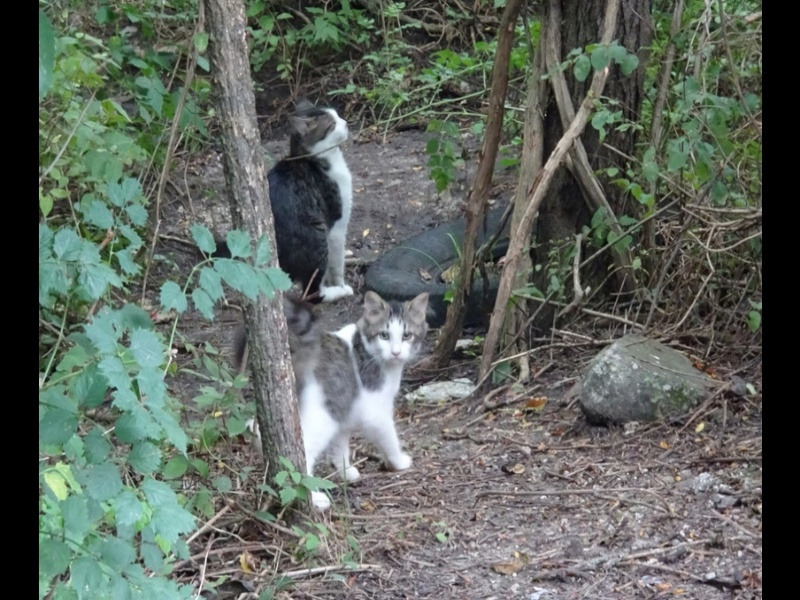cat: (257, 294, 438, 512), (214, 98, 359, 301)
